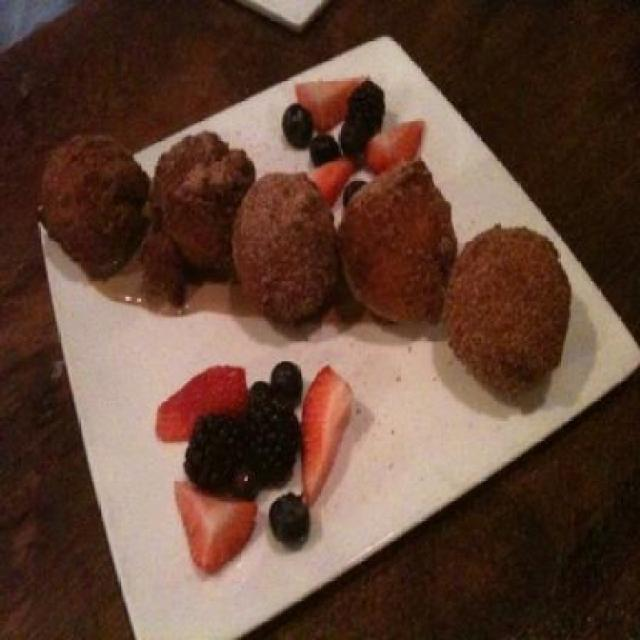Donuts: (24, 123, 614, 360)
Mushroom: (169, 479, 265, 578), (301, 366, 354, 502), (150, 364, 244, 432)
